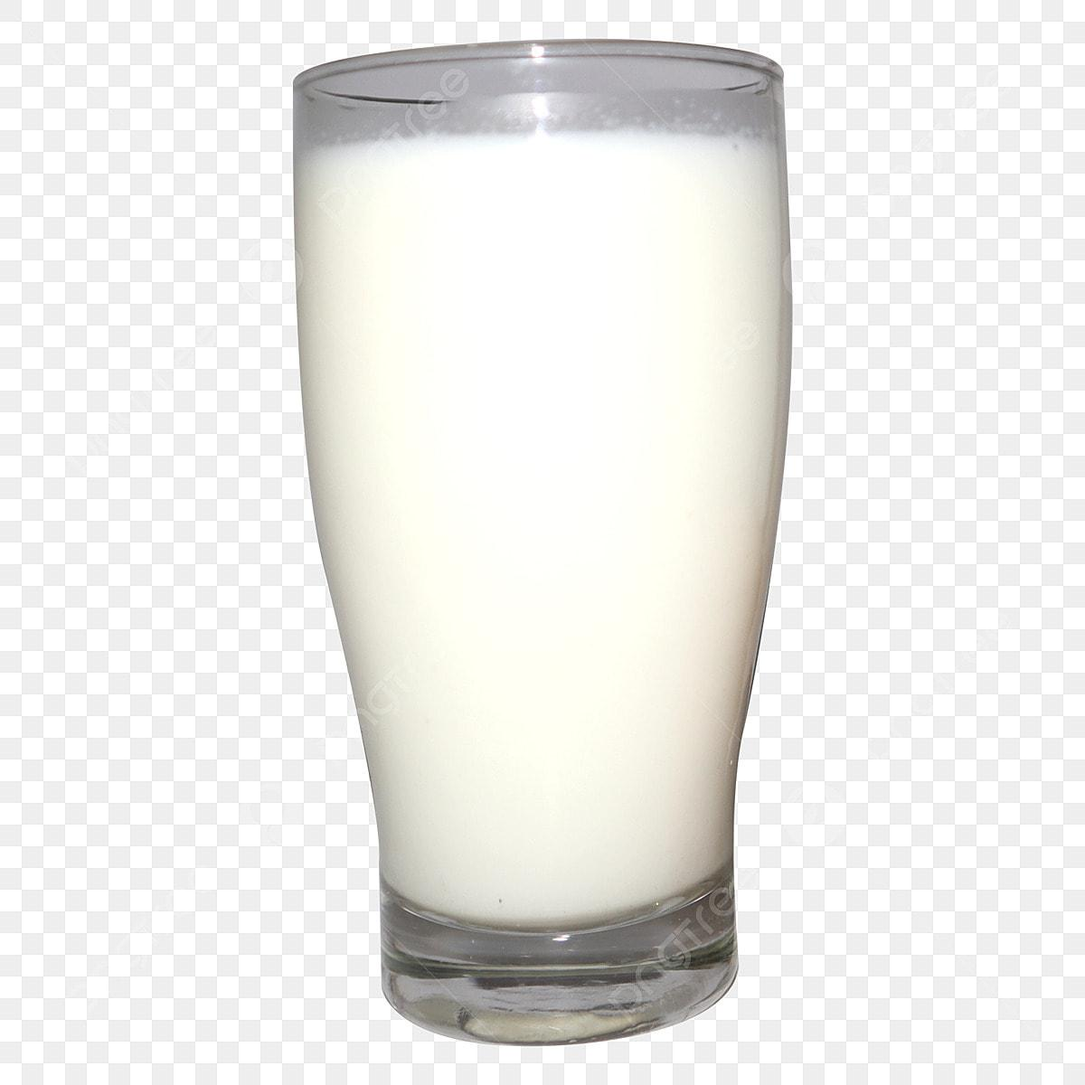produk_susu: (392, 55, 733, 856)
